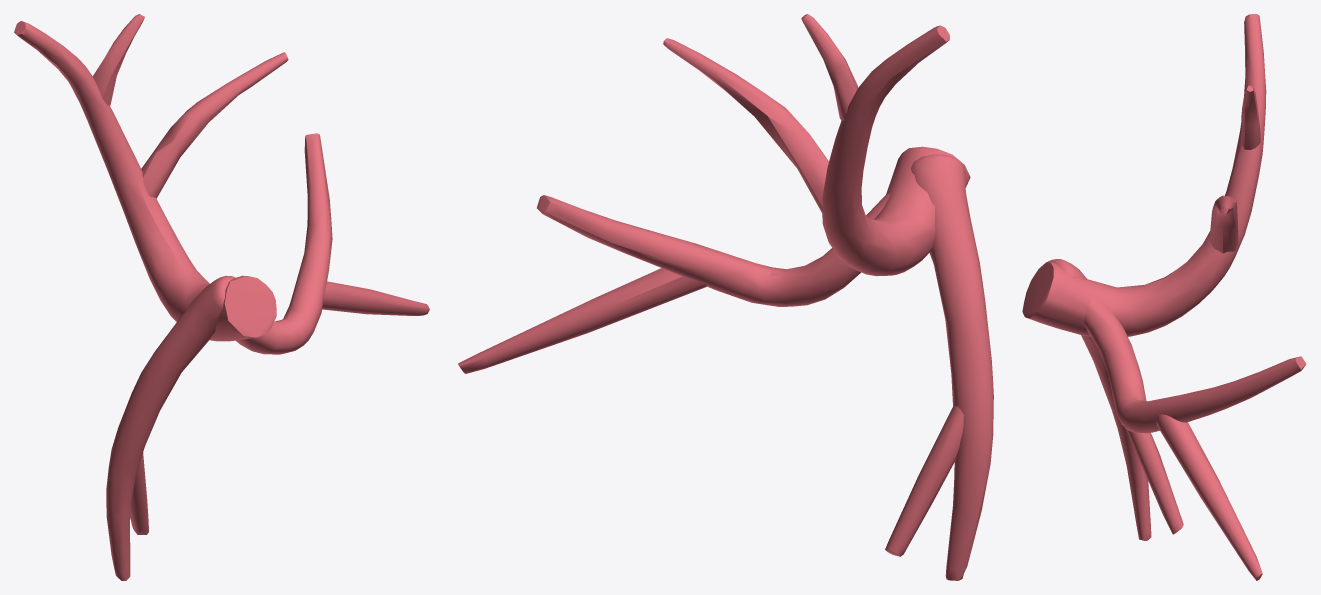
Rendered from fma8642_cx267.glb.
3 renders of one model, left to right at view 1: azimuth 30°, elevation 25°; view 2: azimuth 150°, elevation 25°; view 3: azimuth 270°, elevation 25°, orthographic. The views are drawn at different scales.
Visible parts, largest first — view 1: FMA8642_CX267; view 2: FMA8642_CX267; view 3: FMA8642_CX267.
Part boxes in pixels (x1,y1,x2,y2): FMA8642_CX267: (14, 14, 429, 580); FMA8642_CX267: (458, 14, 993, 580); FMA8642_CX267: (1022, 14, 1306, 580).
Size of the model in its own units: 0.0556 by 0.0671 by 0.0342.
